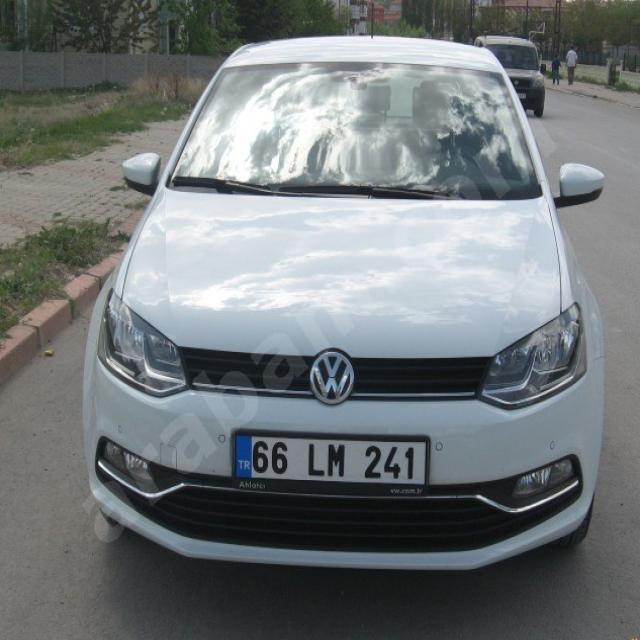license_plate: (233, 433, 428, 486)
